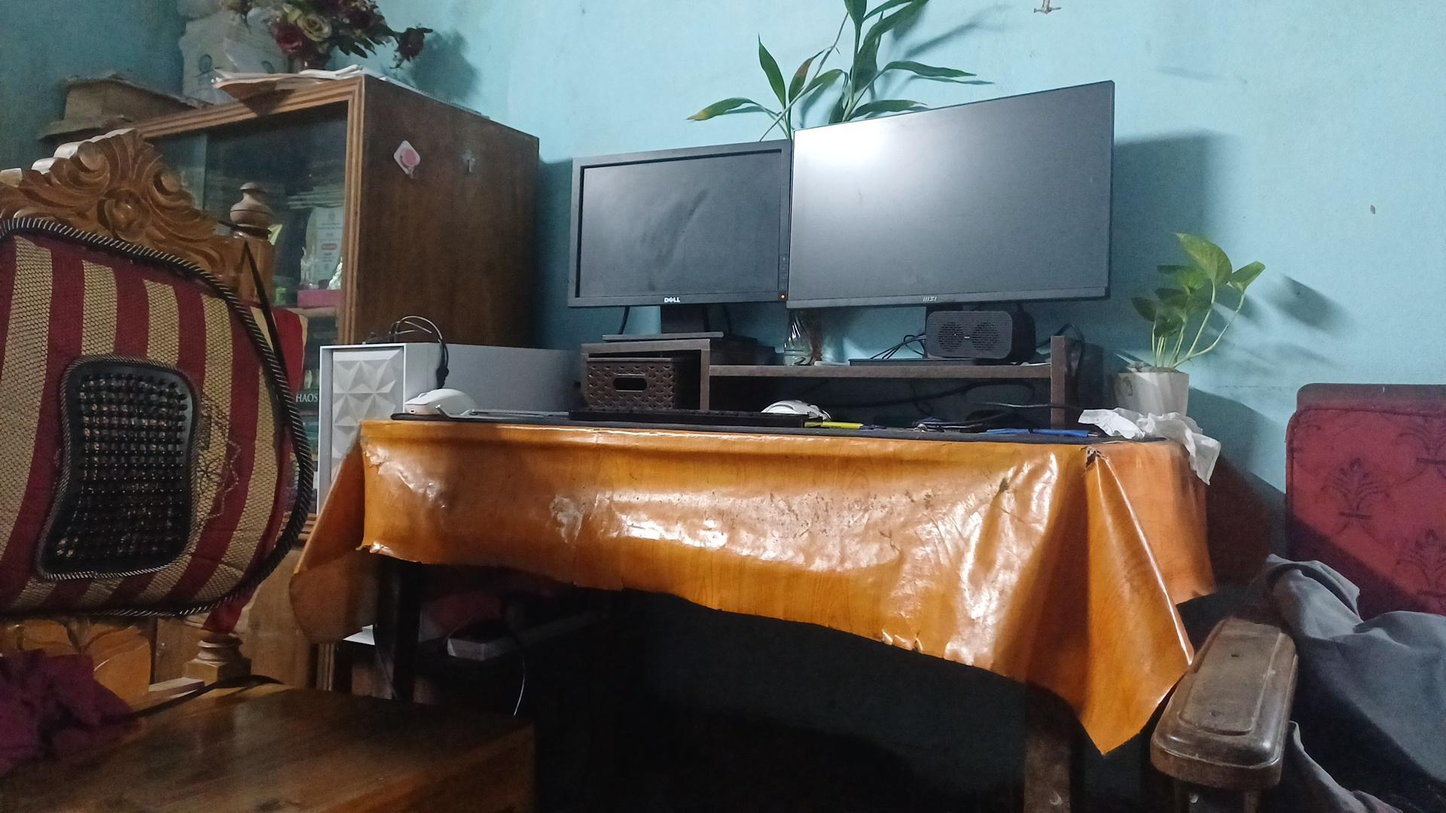Chair: (6, 142, 396, 805)
Clock: (897, 291, 1040, 372)
Monitor: (783, 89, 1114, 320), (545, 139, 786, 296)
Mouse: (417, 372, 498, 427)
Plant: (1124, 215, 1247, 470)
